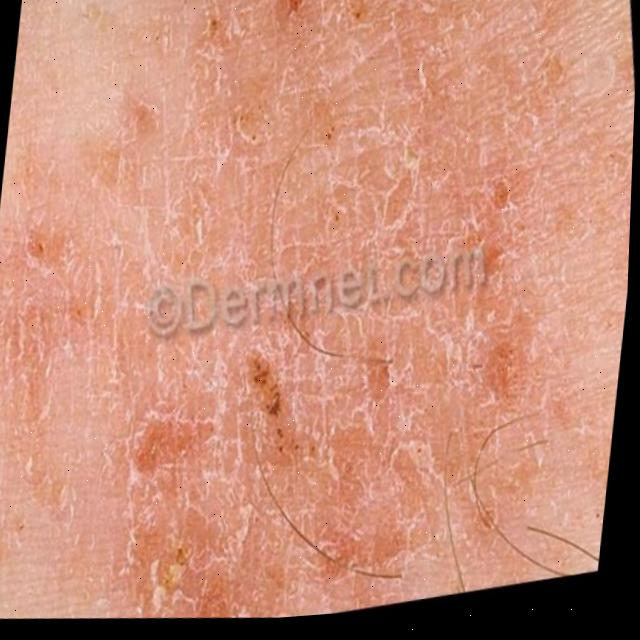Eczema: (0, 0, 610, 617)
